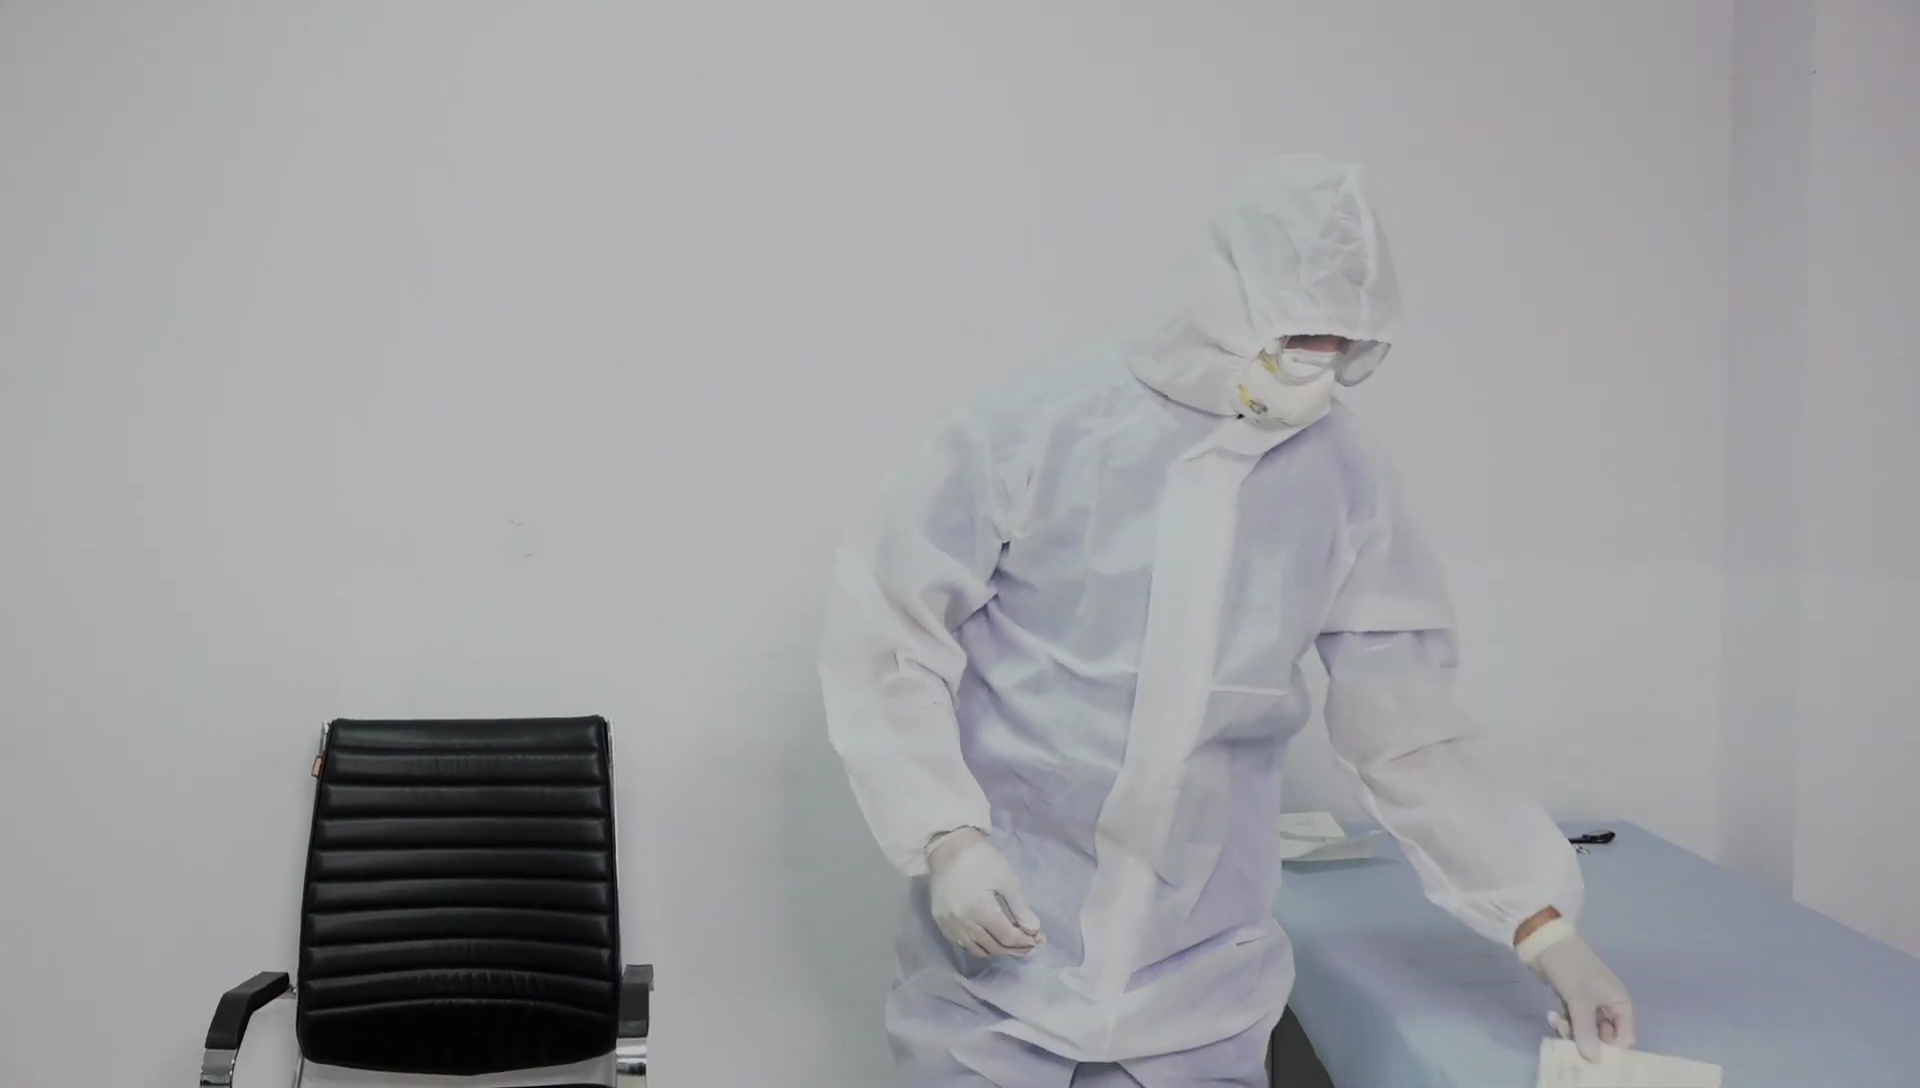Coverall: (814, 149, 1583, 1086)
Gloves: (1515, 919, 1639, 1062), (919, 828, 1042, 962)
Goggles: (1257, 328, 1392, 389)
with_mask: (1233, 348, 1339, 431)
